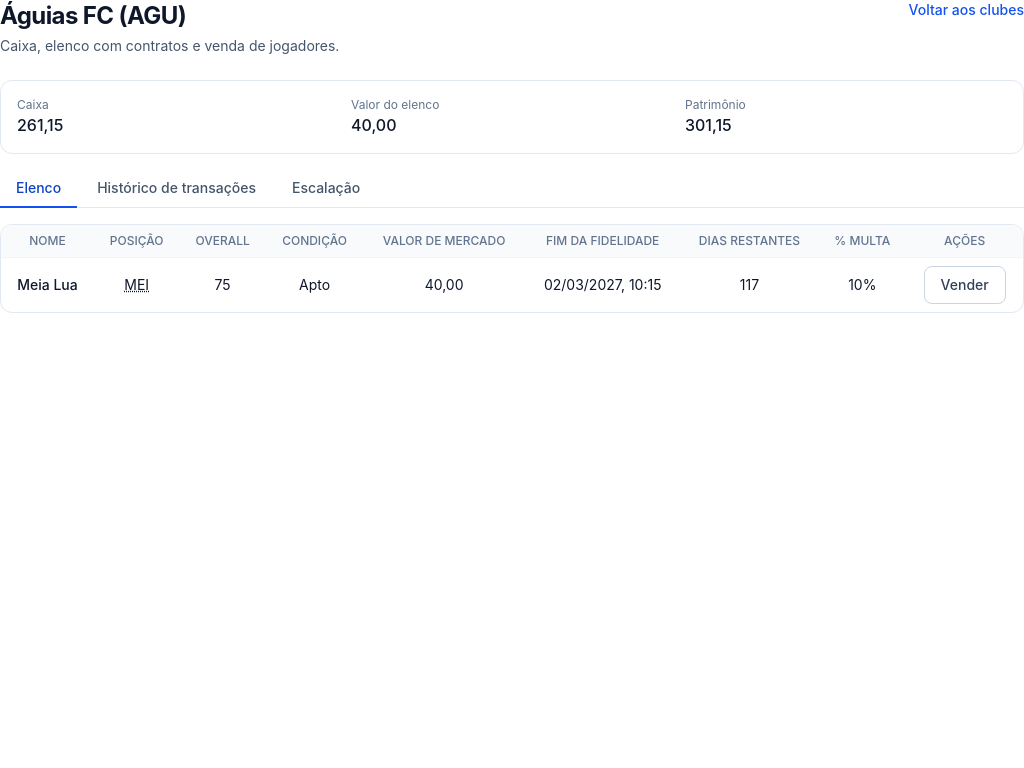
ClubDetailsPage › shows the API message when the sale is refused
Click the button with aria-label "Vender Meia Lua".
click(965, 285)  # box [924,266,1006,304]
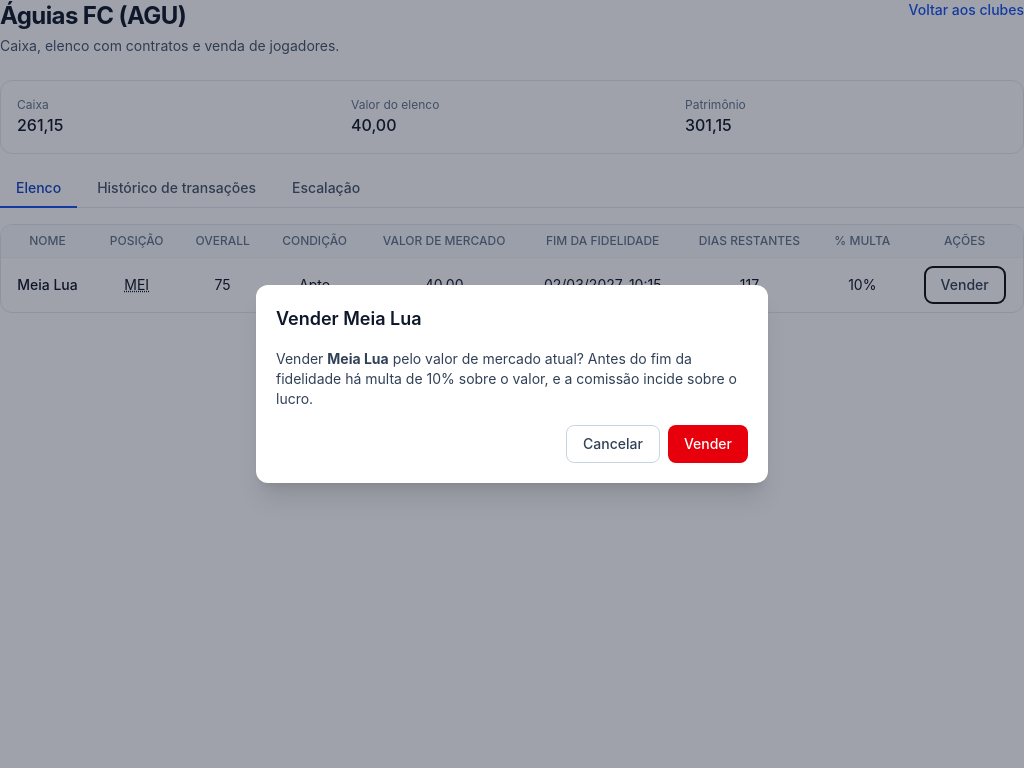
Click the button "Vender".
click(708, 444)  # box [668,425,748,463]
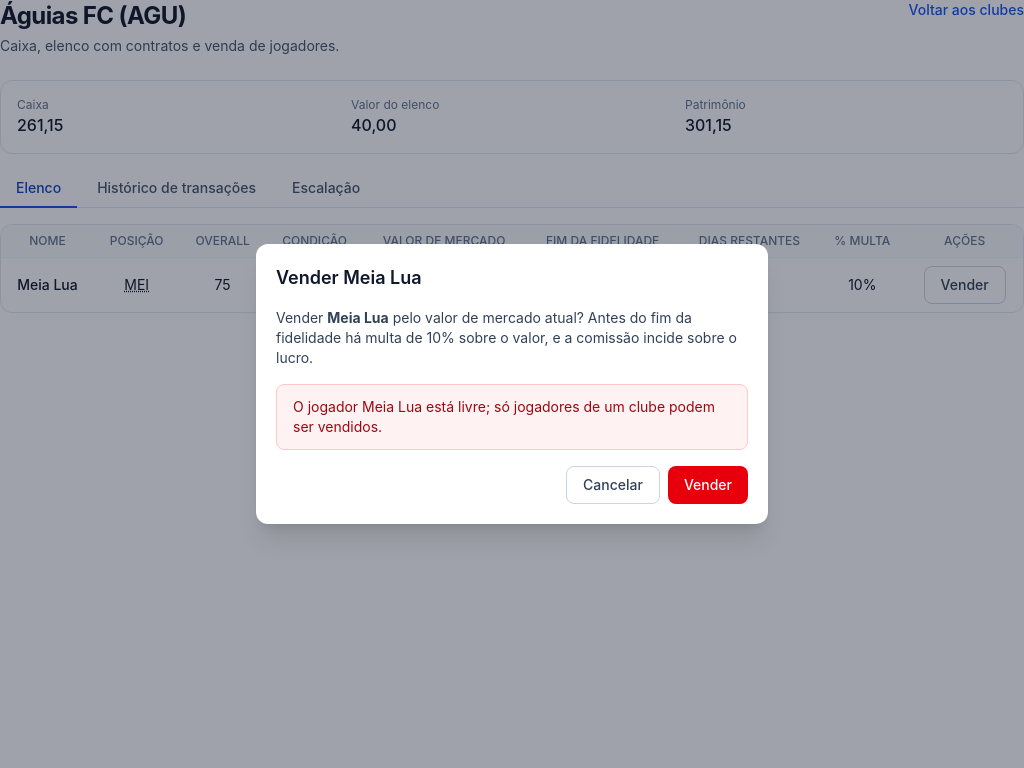
Expected: the message reads "O jogador Meia Lua está livre; só jogadores de um clube podem ser vendidos.", [293,398,715,435]
